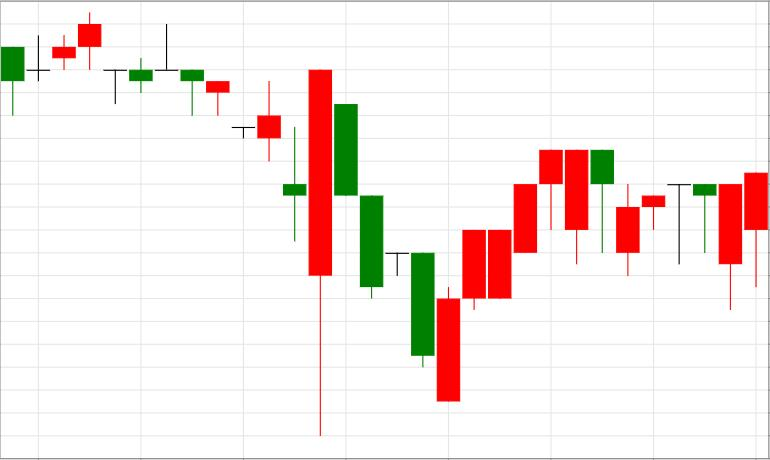bullish_engulfing_rise: (155, 24, 331, 436)
hanging_man_fall: (438, 149, 614, 402)
